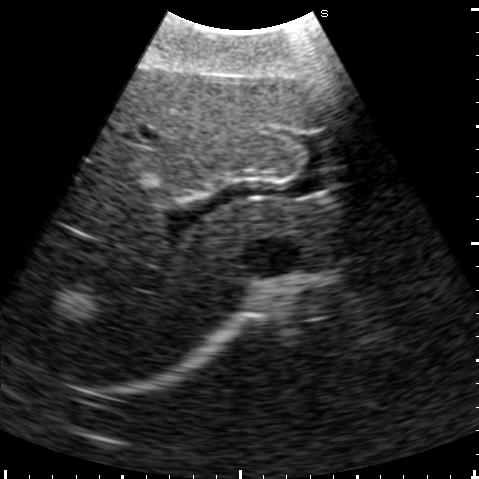IVC: (239, 235, 299, 282)
S4: (81, 68, 328, 198)
Tumor: (53, 290, 97, 321), (138, 173, 158, 190)
